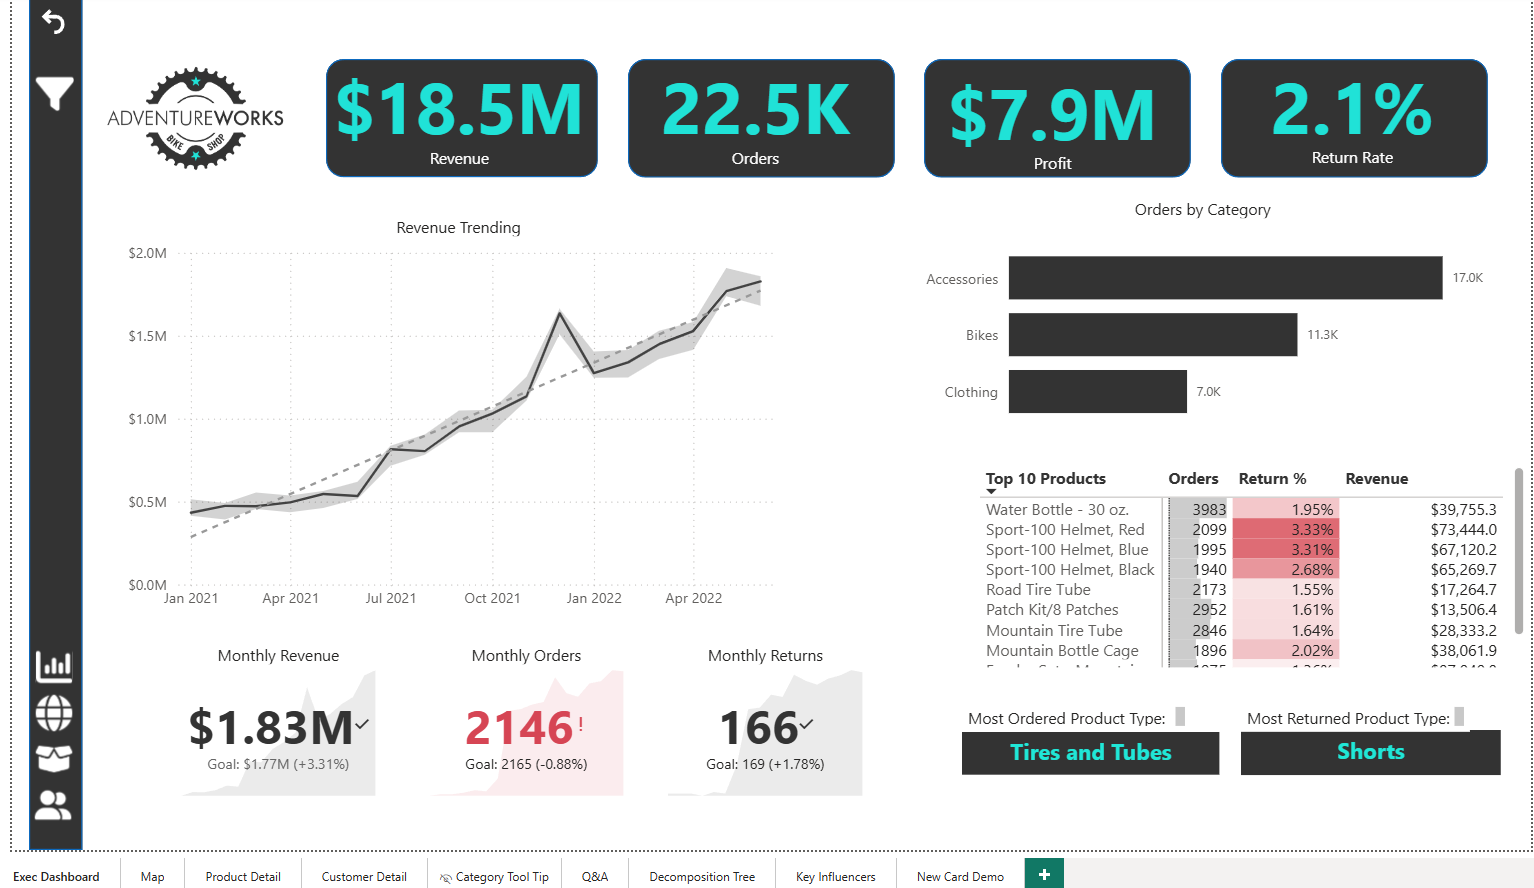

The page's visual inventory and layout, read from the dashboard file:
{"tool":"powerbi","page":{"name":"Exec Dashboard","canvas":[1280,720],"ordinal":0},"visuals":[{"type":"image","box":[59.1,7.1,192.3,192.3],"z":0},{"type":"card","fields":{"Values":["Sum(Sales Data.Revenue)"]},"box":[251,50.4,251.9,98],"z":0,"group":"g1"},{"type":"actionButton","box":[15.8,623.9,59.1,38.8],"z":0,"group":"g2"},{"type":"card","fields":{"Values":["Measure Table.Total Orders"]},"box":[500.2,50.4,251.9,98],"z":1000,"group":"g1"},{"type":"shape","box":[264.6,53,229.4,99.7],"z":1000},{"type":"actionButton","box":[15.8,585.1,58.2,38.8],"z":1000,"group":"g2"},{"type":"shape","box":[519,52.9,225,100],"z":2000},{"type":"card","fields":{"Values":["Measure Table.Total Profit"]},"box":[751,55.3,252.3,97.8],"z":2000,"group":"g1"},{"type":"actionButton","box":[15.8,546.3,59.1,38.8],"z":2000,"group":"g2"},{"type":"card","fields":{"Values":["Measure Table.Return Rate"]},"box":[1003.9,50,252,97.8],"z":3000,"group":"g1"},{"type":"shape","box":[769,52.9,225,100],"z":3000},{"type":"actionButton","box":[15.1,662.7,58.2,38.8],"z":3000,"group":"g2"},{"type":"shape","box":[1019,52.9,225,100],"z":4000},{"type":"shape","box":[14,0,45,720],"z":5000},{"type":"group","id":"g1","title":"KPI Values","box":[251,50,1004.9,103],"z":6000},{"type":"lineChart","title":" Revenue Trending","fields":{"Y":["Sum(Sales Data.Revenue)"],"Category":["Calendar Lookup.Start of Month"]},"box":[92.7,185.4,567.4,340.7],"z":7000},{"type":"kpi","title":"Monthly Revenue","fields":{"Indicator":["Sum(Sales Data.Revenue)"],"TrendLine":["Calendar Lookup.Start of Month"],"Goal":["Measure Table.Previous month revenue"]},"box":[137.1,546.3,174.4,133],"z":8000},{"type":"kpi","title":"Monthly Orders","fields":{"TrendLine":["Calendar Lookup.Start of Month"],"Indicator":["Measure Table.Total Orders"],"Goal":["Measure Table.Previous month orders"]},"box":[346.7,546.3,174.4,133],"z":9000},{"type":"kpi","title":"Monthly Returns","fields":{"TrendLine":["Calendar Lookup.Start of Month"],"Indicator":["Measure Table.Total Returns"],"Goal":["Measure Table.Previous month returns"]},"box":[548.3,546.3,174.4,133],"z":10000},{"type":"clusteredBarChart","title":"Orders by Category","fields":{"Category":["Product Categories Lookup.CategoryName"],"Y":["Measure Table.Total Orders"]},"box":[760.2,170.6,486.9,207.5],"z":11000},{"type":"pivotTable","fields":{"Rows":["Product Lookup.ProductName"],"Values":["Measure Table.Total Orders","Measure Table.Return Rate","Measure Table.Total Revenue"]},"box":[811.1,392.1,468.9,178.6],"z":12000},{"type":"card","fields":{"Values":["Min(Product Subcategories Lookup.SubcategoryName)"]},"box":[801.1,620.5,217.5,35.9],"z":13000},{"type":"textbox","box":[801.1,594.6,192.5,25.9],"z":14000},{"type":"card","fields":{"Values":["Min(Product Subcategories Lookup.SubcategoryName)"]},"box":[1036.6,618.6,219.5,37.9],"z":15000},{"type":"textbox","box":[1036.6,594.6,192.5,25.9],"z":16000},{"type":"actionButton","box":[20.2,6.7,44.7,29.5],"z":17000},{"type":"group","id":"g2","title":"Navigation Buttons","box":[15.1,546.3,60.5,155.2],"z":18000},{"type":"actionButton","box":[16.1,62.5,43.3,40.3],"z":19000}]}

Visuals, with their boxes on the page's 1280x720 design canvas (x1, y1, x2, y2). These are canvas units, not pixel positions in the 1534x888 screenshot, which may show the page scaled, cropped or inside an application window:
image: 59, 7, 251, 199
card - Sum(Sales Data.Revenue): 251, 50, 503, 148
actionButton: 16, 624, 75, 663
card - Measure Table.Total Orders: 500, 50, 752, 148
shape: 265, 53, 494, 153
actionButton: 16, 585, 74, 624
shape: 519, 53, 744, 153
card - Measure Table.Total Profit: 751, 55, 1003, 153
actionButton: 16, 546, 75, 585
card - Measure Table.Return Rate: 1004, 50, 1256, 148
shape: 769, 53, 994, 153
actionButton: 15, 663, 73, 702
shape: 1019, 53, 1244, 153
shape: 14, 0, 59, 720
"KPI Values" group: 251, 50, 1256, 153
" Revenue Trending" lineChart: 93, 185, 660, 526
"Monthly Revenue" kpi: 137, 546, 312, 679
"Monthly Orders" kpi: 347, 546, 521, 679
"Monthly Returns" kpi: 548, 546, 723, 679
"Orders by Category" clusteredBarChart: 760, 171, 1247, 378
pivotTable - Product Lookup.ProductName x Measure Table.Total Orders: 811, 392, 1280, 571
card - Min(Product Subcategories Lookup.SubcategoryName): 801, 620, 1019, 656
textbox: 801, 595, 994, 620
card - Min(Product Subcategories Lookup.SubcategoryName): 1037, 619, 1256, 656
textbox: 1037, 595, 1229, 620
actionButton: 20, 7, 65, 36
"Navigation Buttons" group: 15, 546, 76, 702
actionButton: 16, 62, 59, 103
